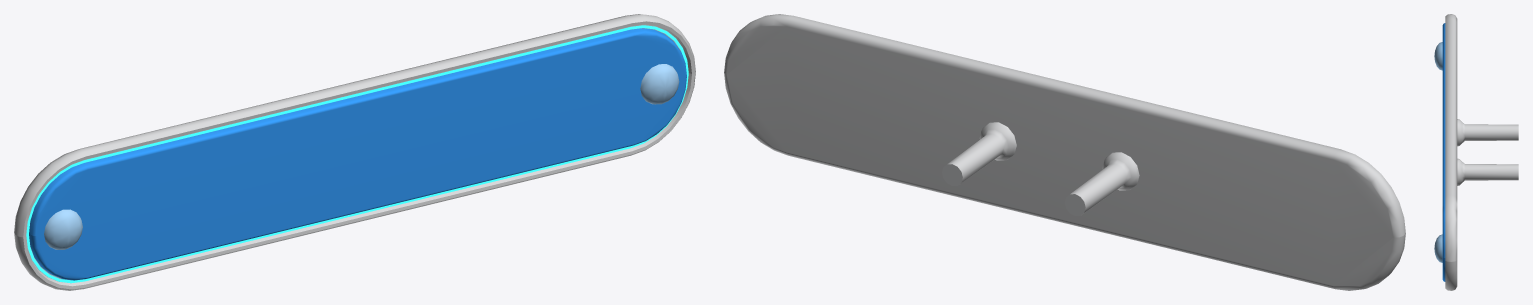
The model's file is Hub_CleanBanner.fbx.
3 renders of one model, left to right at view 1: azimuth 30°, elevation 25°; view 2: azimuth 150°, elevation 25°; view 3: azimuth 270°, elevation 25°, orthographic. The views are drawn at different scales.
Parts seen in each view (by area): view 1: CleanBanner_Body, CleanBanner_Trim, CleanBanner_Glow, CleanBanner_Bubbles; view 2: CleanBanner_Trim; view 3: CleanBanner_Trim, CleanBanner_Body, CleanBanner_Bubbles.
Part boxes in pixels (x1,y1,x2,y2): CleanBanner_Body: (29, 28, 686, 280); CleanBanner_Trim: (14, 14, 695, 290); CleanBanner_Glow: (26, 25, 688, 283); CleanBanner_Bubbles: (44, 64, 679, 249); CleanBanner_Trim: (724, 14, 1405, 290); CleanBanner_Trim: (1445, 14, 1518, 290); CleanBanner_Body: (1442, 23, 1445, 281); CleanBanner_Bubbles: (1434, 42, 1442, 262).
Bounding box in the file's own units: 46.4 × 9.02 × 7.55.
